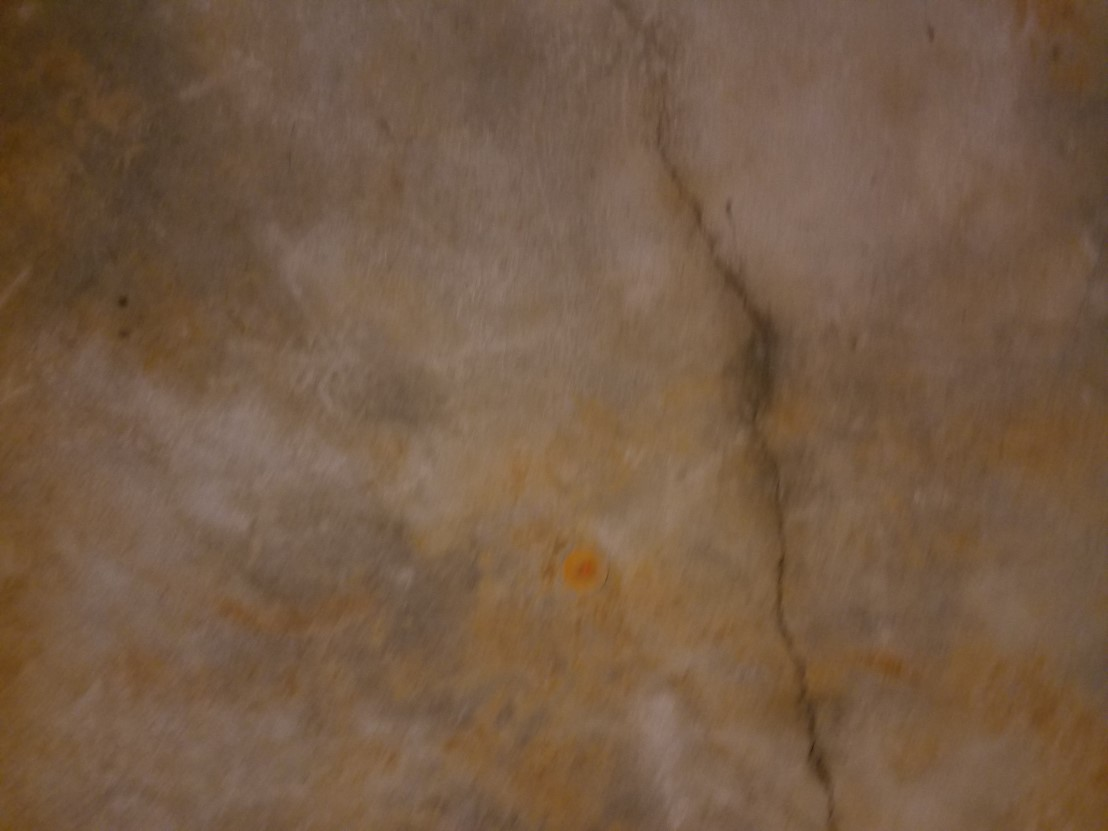Crack: (597, 0, 855, 831)
